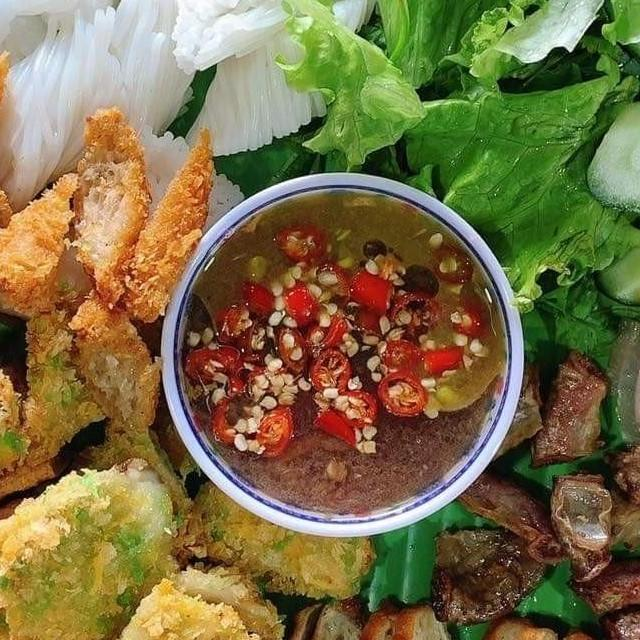bun: (0, 0, 404, 267)
bun dau: (0, 0, 640, 640)
